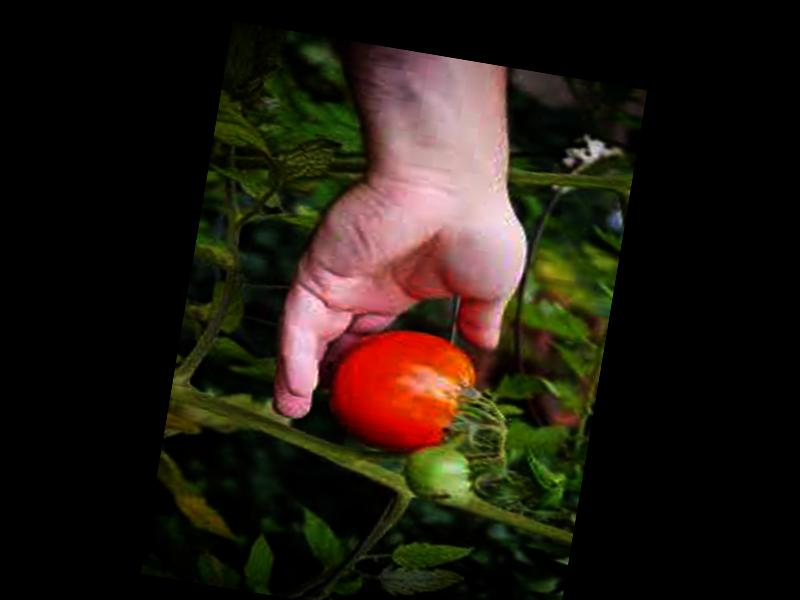Tomato: (322, 318, 485, 465)
